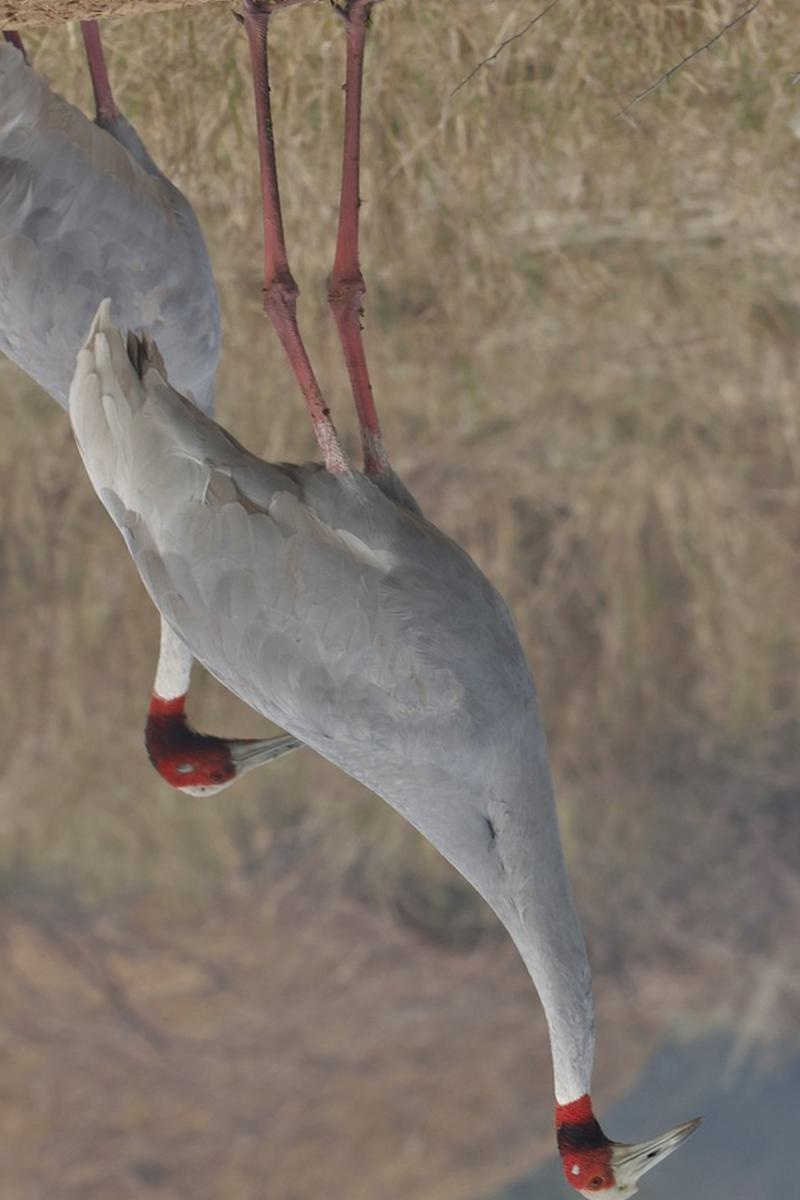crane: (142, 1, 704, 1198), (1, 1, 317, 792)
